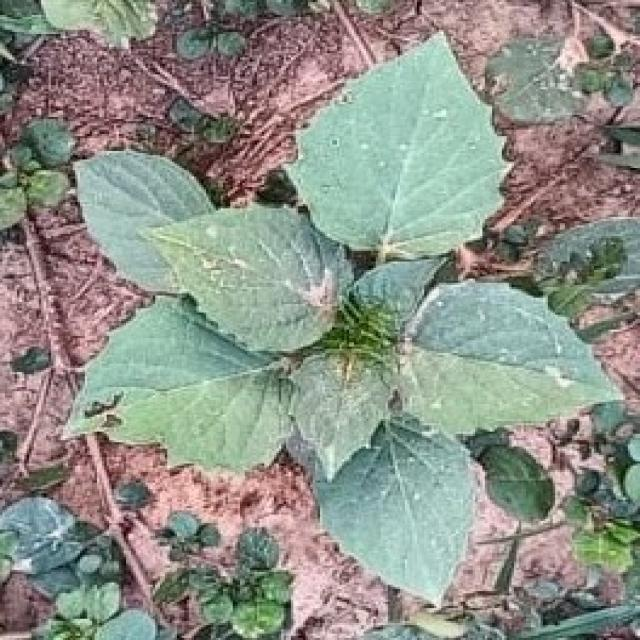weed: (68, 34, 621, 605)
